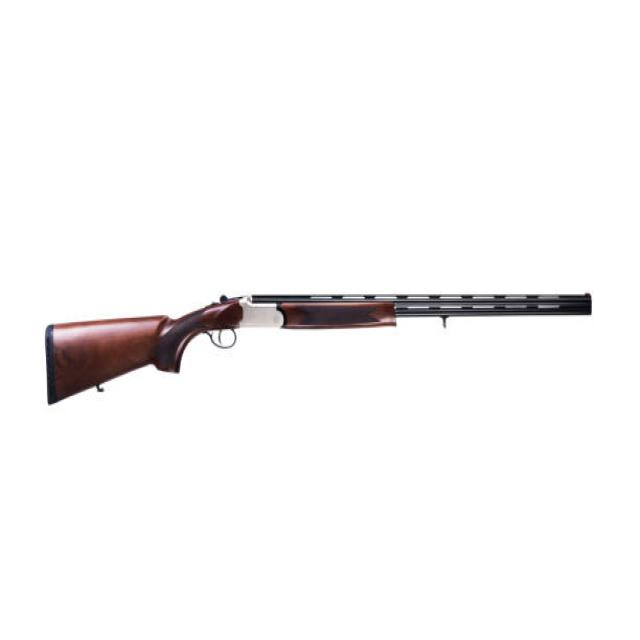rifle: (39, 273, 604, 411)
